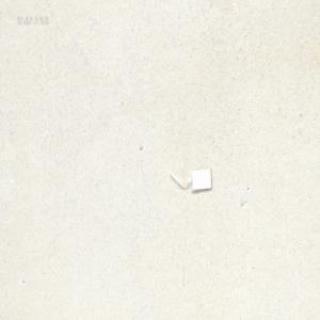LuggageTagtrack_idkeyframe: (167, 165, 211, 193)
